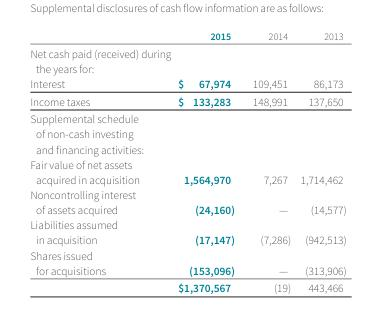table: (29, 29, 345, 294)
table column: (29, 29, 158, 294), (158, 29, 242, 294), (242, 29, 294, 294), (294, 29, 345, 294)
table column header: (29, 29, 345, 43)
table projected row header: (29, 109, 345, 156), (29, 43, 345, 75)
table row: (29, 109, 345, 156), (29, 43, 345, 75), (29, 216, 345, 247), (29, 247, 345, 278), (29, 156, 345, 186), (29, 186, 345, 216), (29, 91, 345, 109), (29, 75, 345, 91), (29, 278, 345, 294), (29, 29, 345, 43)
